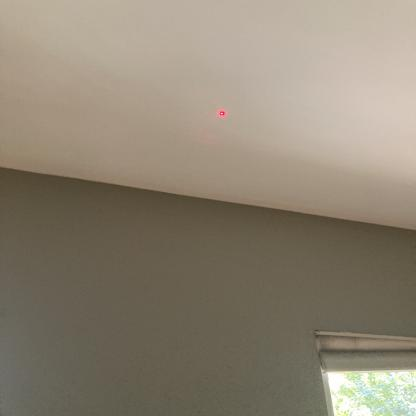target: (218, 110, 228, 119)
